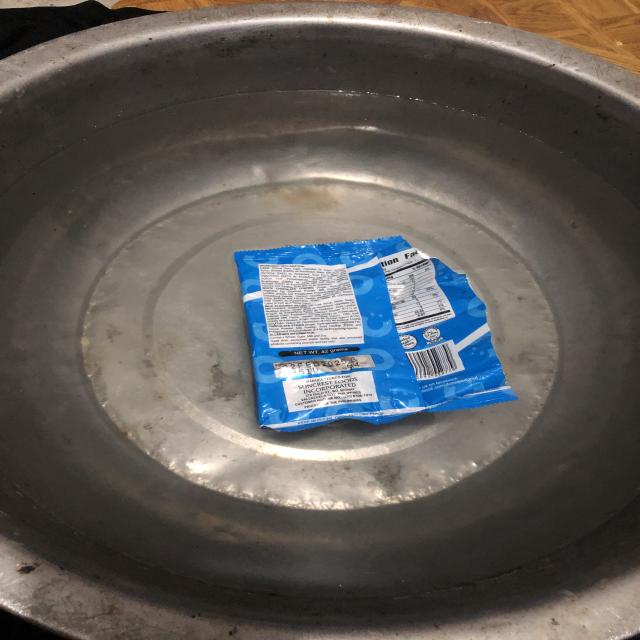Plastic Wrapper: (225, 232, 538, 448)
